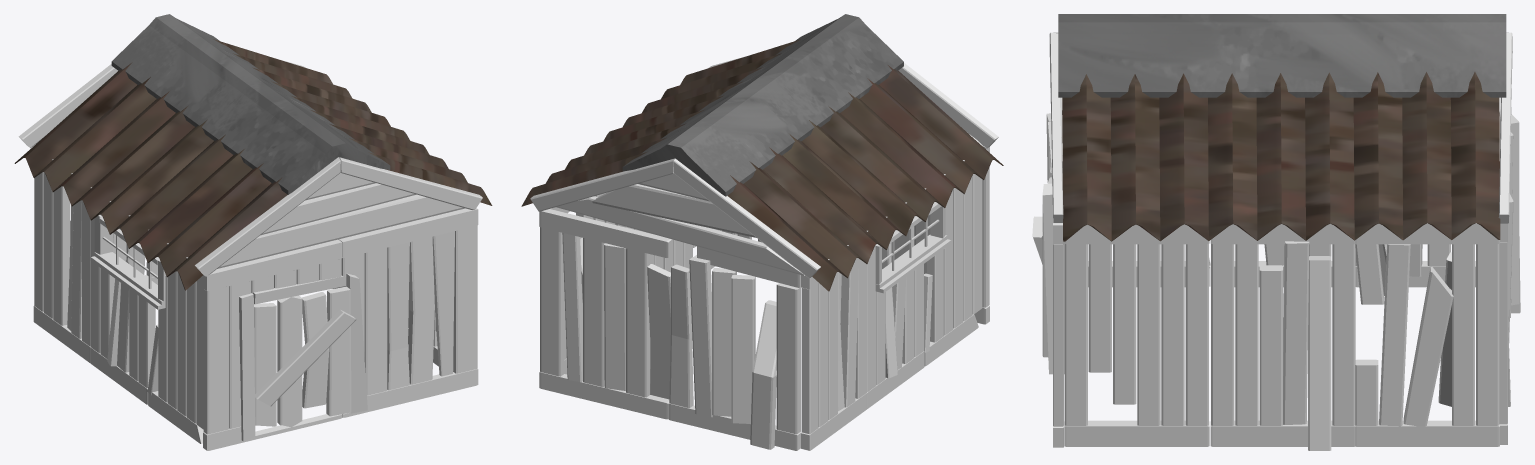
The model's file is shed.fbx.
3 views of the same model, side by side, from view 1: azimuth 30°, elevation 25°; view 2: azimuth 150°, elevation 25°; view 3: azimuth 270°, elevation 25° (orthographic). The views are drawn at different scales.
Parts seen in each view (by area): view 1: Cube.047; view 2: Cube.047; view 3: Cube.047.
Boxes of the visible parts, <box> form: Cube.047: <box>14,14,492,450</box>; Cube.047: <box>521,14,1003,450</box>; Cube.047: <box>1032,14,1520,450</box>.
Size of the model in its own units: 1199 by 1027 by 1303.
